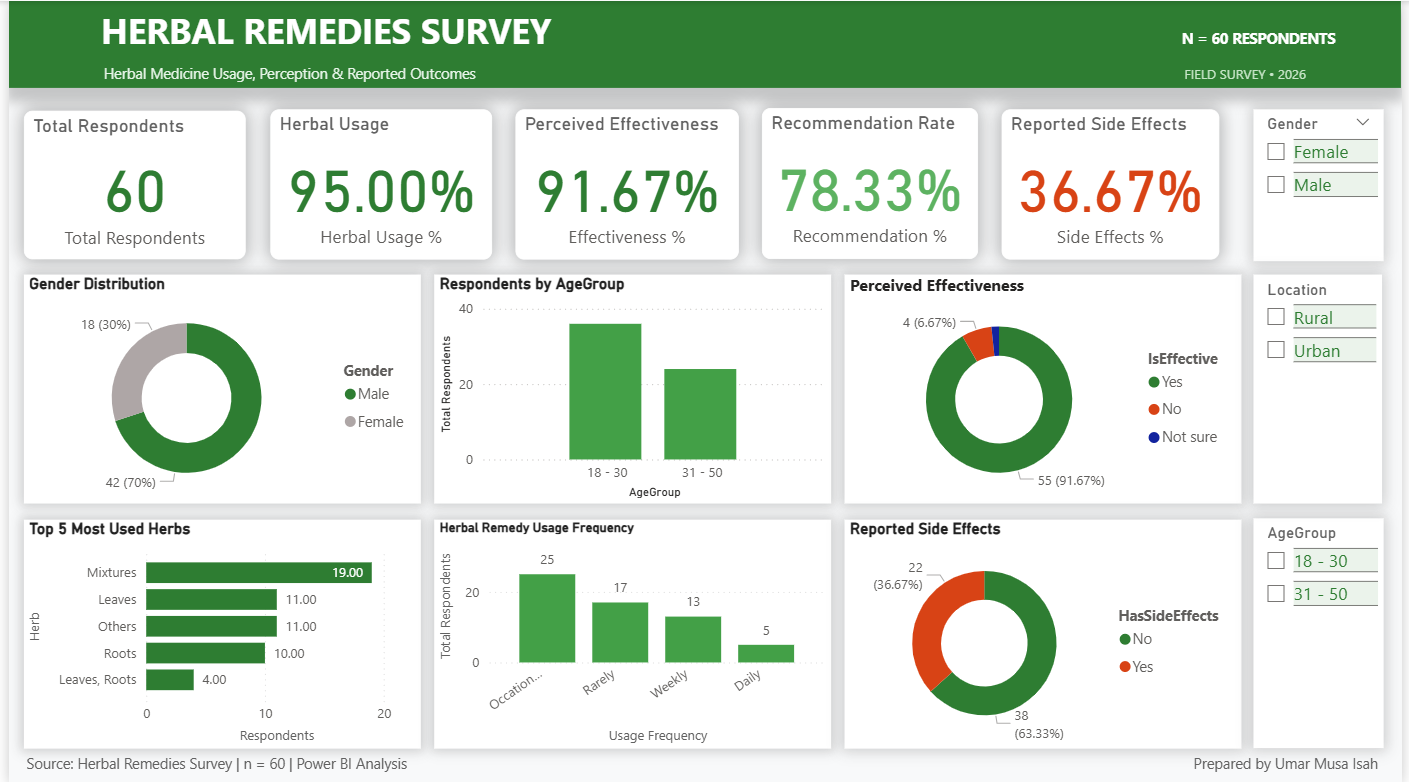

This screenshot's page, from the dashboard's own definition file:
{"tool":"powerbi","page":{"name":"Executive Dashboard","canvas":[1280,720],"ordinal":0},"visuals":[{"type":"shape","box":[0,0,1279.1,79.5],"z":0},{"type":"textbox","box":[79.6,0,1148.7,54.8],"z":1000},{"type":"textbox","box":[82.1,52.3,1146.2,27.4],"z":2000},{"type":"card","title":"Total Respondents","fields":{"Values":["Measures_View.Total Respondents"]},"box":[13,100.2,204.3,139.2],"z":3000},{"type":"card","title":"Herbal Usage","fields":{"Values":["Measures_View.Herbal Usage %"]},"box":[239.4,98.9,204.3,140.5],"z":4000},{"type":"card","title":"Perceived Effectiveness","fields":{"Values":["Measures_View.Effectiveness %"]},"box":[465.9,98.9,204.3,140.5],"z":5000},{"type":"card","title":"Recommendation Rate","fields":{"Values":["Measures_View.Recommendation %"]},"box":[692.3,97.6,199.1,141.8],"z":6000},{"type":"card","title":"Reported Side Effects","fields":{"Values":["Measures_View.Side Effects %"]},"box":[912,99.4,200.2,137.9],"z":7000},{"type":"donutChart","title":"Gender Distribution","fields":{"Category":["Fact_HerbalSurvey.Gender"],"Y":["Measures_View.Total Respondents"]},"box":[13.7,251.4,364.6,210.3],"z":8000},{"type":"clusteredColumnChart","title":"Respondents by AgeGroup","fields":{"Category":["Fact_HerbalSurvey.AgeGroup"],"Y":["Measures_View.Total Respondents"]},"box":[390.8,251.4,364.6,210.3],"z":9000},{"type":"barChart","title":"Top 5 Most Used Herbs","fields":{"Category":["Fact_HerbalSurvey.HerbsUsed"],"Y":["Measures_View.Total Respondents"]},"box":[13.7,476.6,364.6,210.3],"z":10000},{"type":"clusteredColumnChart","title":"Herbal Remedy Usage Frequency","fields":{"Category":["Fact_HerbalSurvey.UsageFrequency"],"Y":["Measures_View.Total Respondents"]},"box":[390.8,476.6,364.6,210.3],"z":11000},{"type":"donutChart","title":"Perceived Effectiveness","fields":{"Category":["Fact_HerbalSurvey.IsEffective"],"Y":["Measures_View.Total Respondents"]},"box":[767.9,251.4,364.6,210.3],"z":12000},{"type":"donutChart","title":"Reported Side Effects","fields":{"Category":["Fact_HerbalSurvey.HasSideEffects"],"Y":["Measures_View.Total Respondents"]},"box":[767.9,476.6,364.6,210.3],"z":13000},{"type":"slicer","fields":{"Values":["Fact_HerbalSurvey.Gender"]},"box":[1143.7,99.6,119.5,139.4],"z":14000},{"type":"slicer","fields":{"Values":["Fact_HerbalSurvey.AgeGroup"]},"box":[1143.7,475.4,119.5,211.6],"z":15000},{"type":"slicer","fields":{"Values":["Fact_HerbalSurvey.Location"]},"box":[1143.7,251.4,118.2,210.3],"z":16000},{"type":"textbox","box":[11.2,687,365.9,28.6],"z":17000},{"type":"textbox","box":[1081.5,687,181.7,31.1],"z":18000}]}

Visuals, with their boxes in screenshot pixels (x1, y1, x2, y2), scaled from the page's 1280x720 canvas onto the 1409x782 screenshot:
shape: <bbox>0, 0, 1408, 86</bbox>
textbox: <bbox>88, 0, 1352, 60</bbox>
textbox: <bbox>90, 57, 1352, 87</bbox>
"Total Respondents" card: <bbox>14, 109, 239, 260</bbox>
"Herbal Usage" card: <bbox>264, 107, 488, 260</bbox>
"Perceived Effectiveness" card: <bbox>513, 107, 738, 260</bbox>
"Recommendation Rate" card: <bbox>762, 106, 981, 260</bbox>
"Reported Side Effects" card: <bbox>1004, 108, 1224, 258</bbox>
"Gender Distribution" donutChart: <bbox>15, 273, 416, 501</bbox>
"Respondents by AgeGroup" clusteredColumnChart: <bbox>430, 273, 832, 501</bbox>
"Top 5 Most Used Herbs" barChart: <bbox>15, 518, 416, 746</bbox>
"Herbal Remedy Usage Frequency" clusteredColumnChart: <bbox>430, 518, 832, 746</bbox>
"Perceived Effectiveness" donutChart: <bbox>845, 273, 1247, 501</bbox>
"Reported Side Effects" donutChart: <bbox>845, 518, 1247, 746</bbox>
slicer - Fact_HerbalSurvey.Gender: <bbox>1259, 108, 1391, 260</bbox>
slicer - Fact_HerbalSurvey.AgeGroup: <bbox>1259, 516, 1391, 746</bbox>
slicer - Fact_HerbalSurvey.Location: <bbox>1259, 273, 1389, 501</bbox>
textbox: <bbox>12, 746, 415, 777</bbox>
textbox: <bbox>1190, 746, 1391, 780</bbox>
